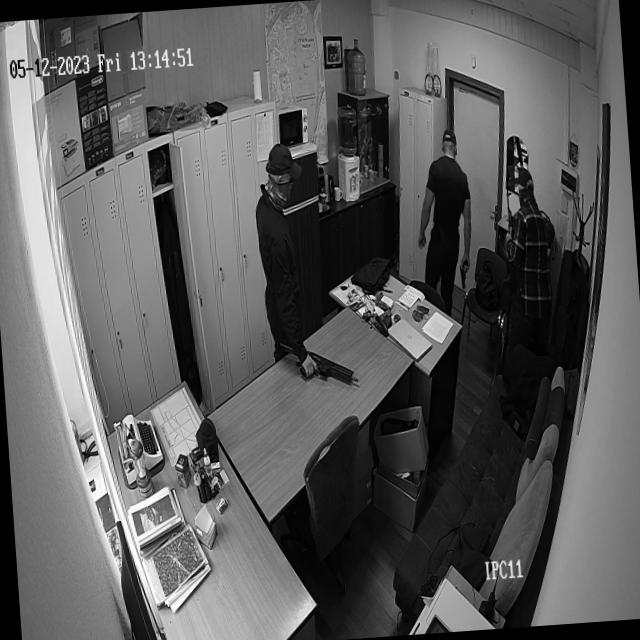gun: (272, 330, 360, 396), (501, 184, 518, 248), (457, 252, 472, 291)
person with a gun: (248, 132, 363, 402), (493, 162, 564, 344), (408, 124, 480, 298)
